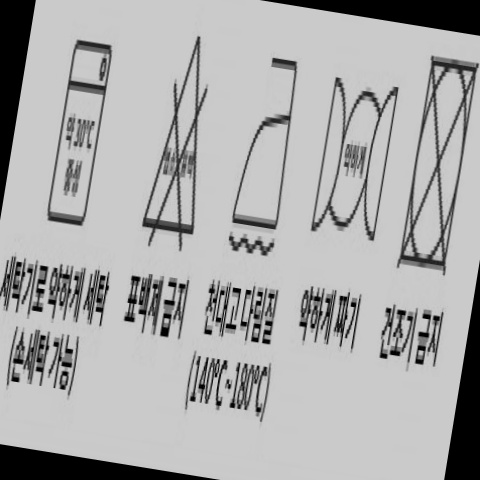30C: (32, 31, 126, 234)
DN_tumble_dry: (386, 48, 480, 286)
iron: (222, 47, 324, 261)
non_chlorine_bleach: (131, 26, 241, 255)
wring: (298, 71, 413, 246)
